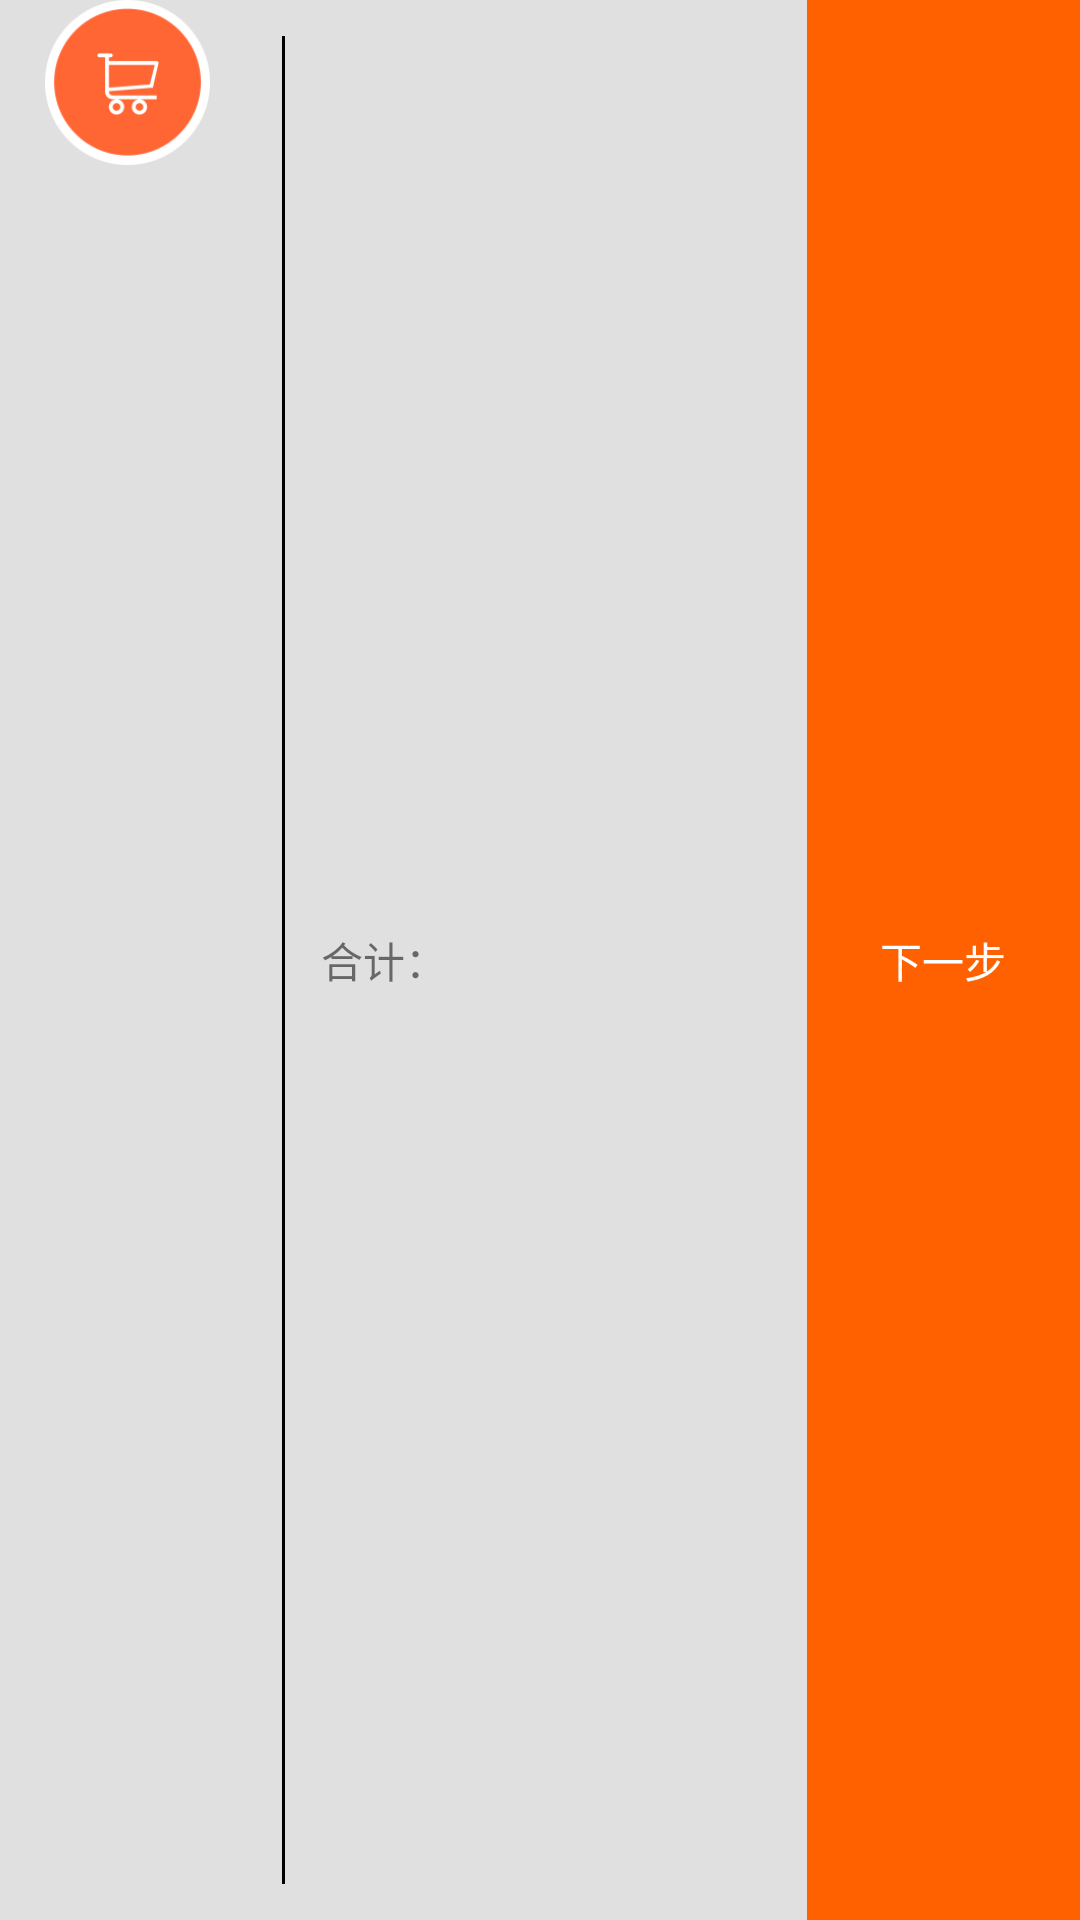

Named icons in this screenshot (1080px×1920px) and their bounding boxes, (x1, y1, x2, y2):
shoppingcart: (45, 0, 210, 165)
